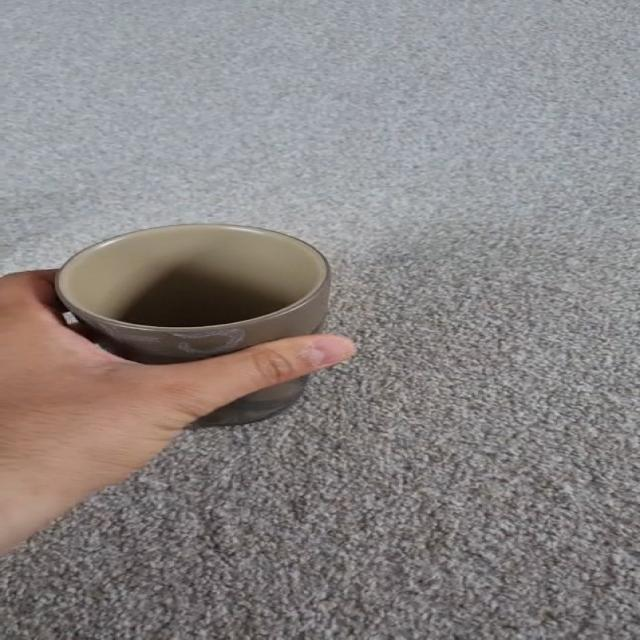Cup: (56, 224, 329, 364), (206, 380, 305, 424)
